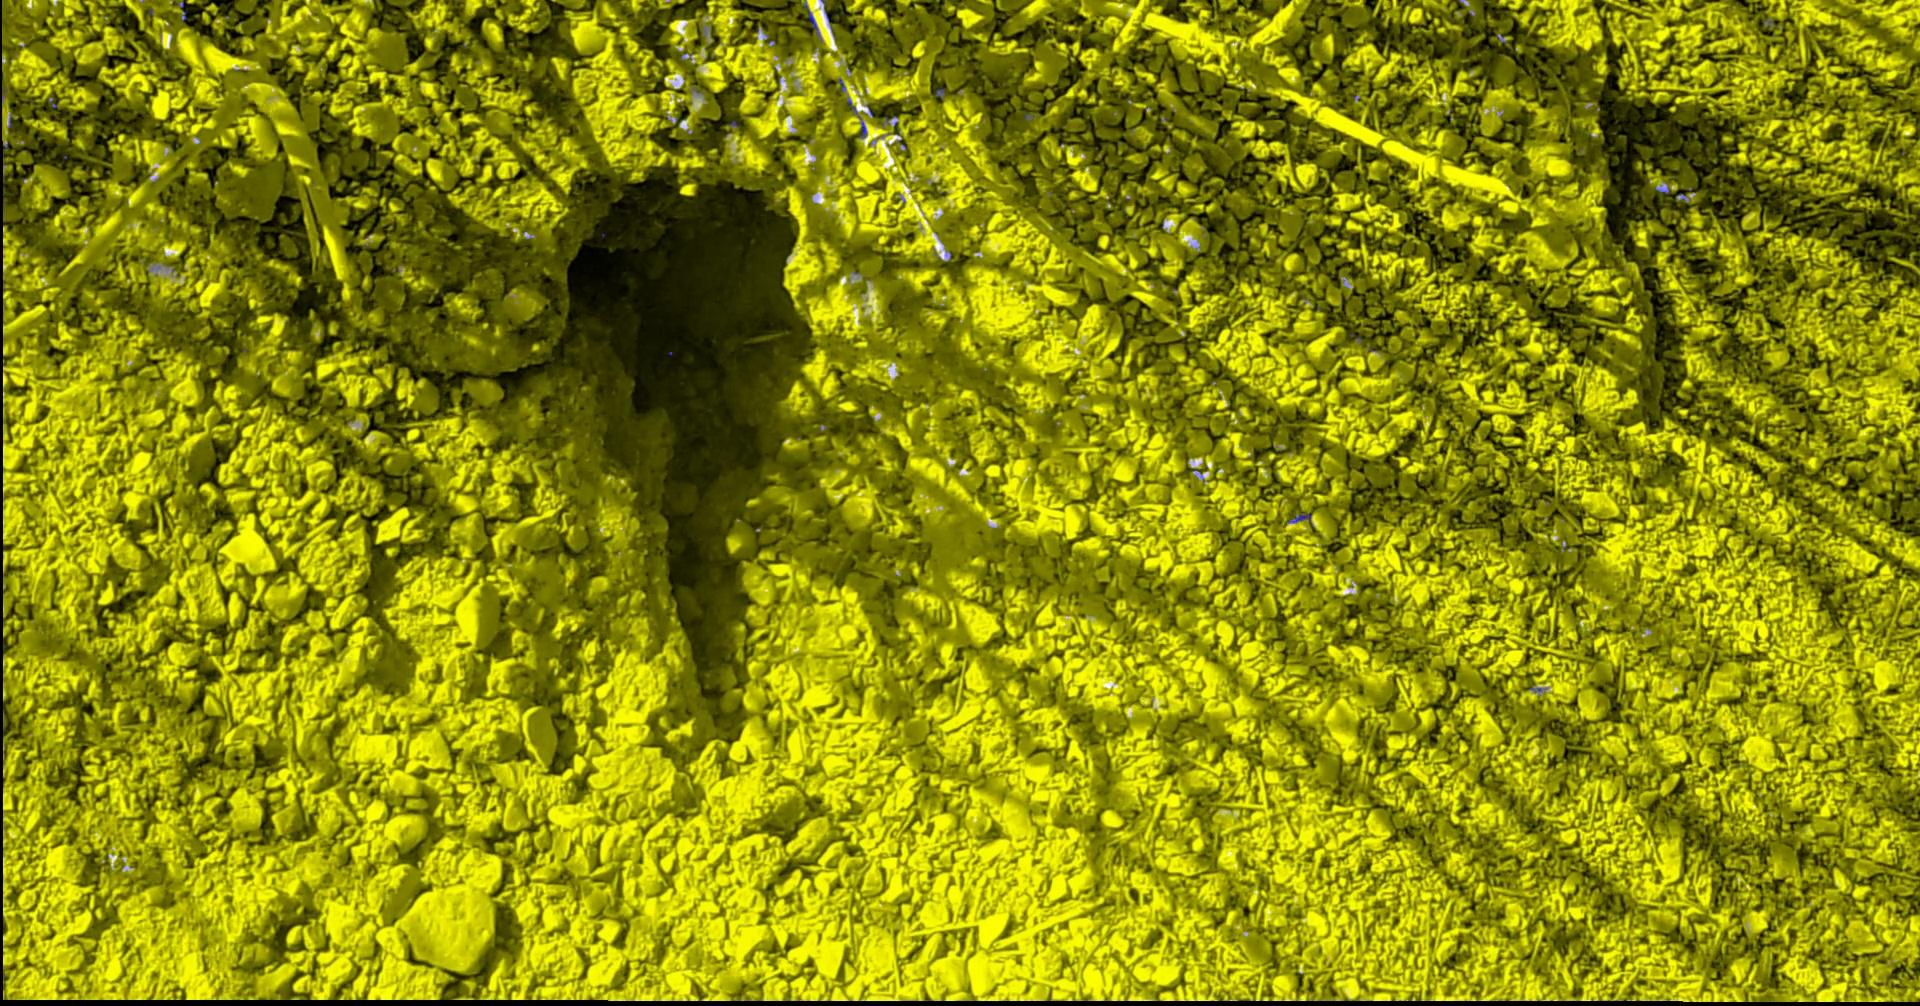ant: (1288, 513, 1310, 522)
